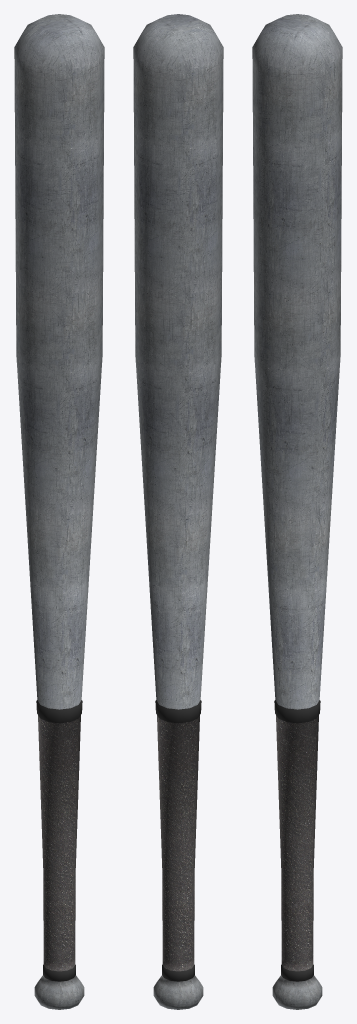
Rendered from baseball_bat_2.fbx.
The picture shows the model from 3 angles, left to right: view 1: azimuth 30°, elevation 25°; view 2: azimuth 210°, elevation 25°; view 3: azimuth 330°, elevation 25°; orthographic projection.
Visible parts, largest first — view 1: bat_2_mesh; view 2: bat_2_mesh; view 3: bat_2_mesh.
Part boxes in pixels (left/top/right/bottom): bat_2_mesh: left=14, top=14, right=104, bottom=1009; bat_2_mesh: left=133, top=14, right=223, bottom=1009; bat_2_mesh: left=252, top=14, right=342, bottom=1009.
Size of the model in its own units: 72.55 by 870 by 72.55.
